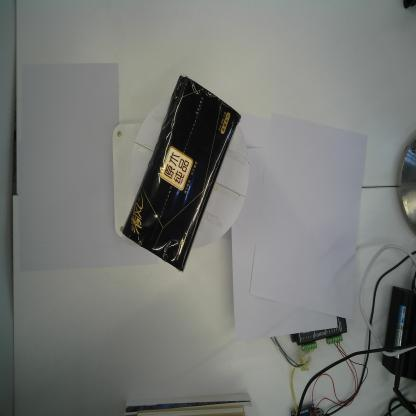Tissue: (118, 73, 242, 274)
